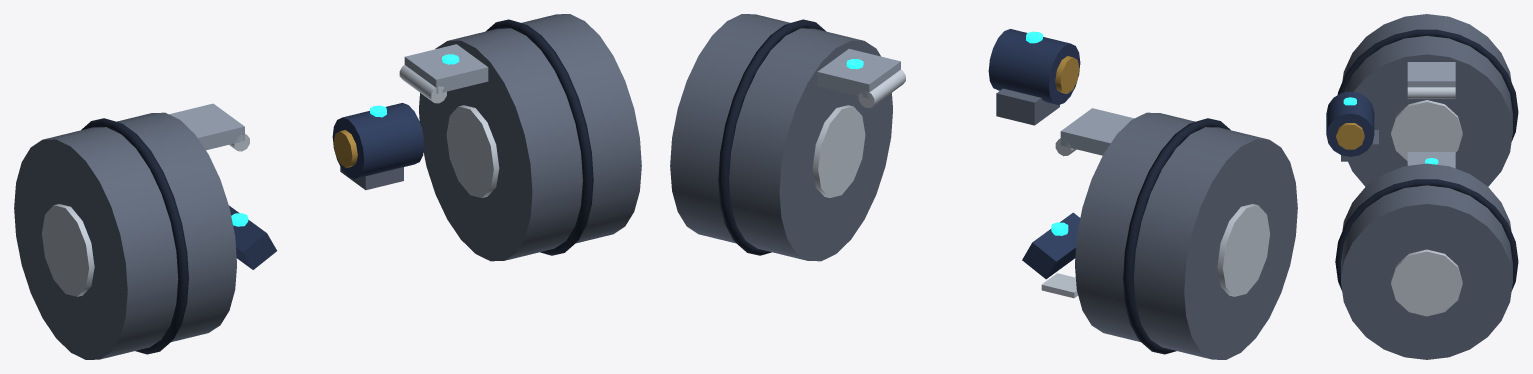
Rendered from tower_skywatch_rate_s5.glb.
The picture shows the model from 3 angles, left to right: view 1: azimuth 30°, elevation 25°; view 2: azimuth 150°, elevation 25°; view 3: azimuth 270°, elevation 25°; orthographic projection. The views are drawn at different scales.
Visible parts, largest first — view 1: skywatch_big_drum_r, skywatch_big_drum_l, skywatch_feed_motor, skywatch_big_drum_cap_r, skywatch_big_drum_cap_l, skywatch_big_drum_rib_r, skywatch_big_drum_rib_l, skywatch_belt_guide_l, skywatch_belt_guide_r, skywatch_eject_chute, skywatch_belt_guide_roller_l, skywatch_feed_motor_cap (+1 smaller); view 2: skywatch_big_drum_r, skywatch_big_drum_l, skywatch_feed_motor, skywatch_big_drum_cap_r, skywatch_big_drum_cap_l, skywatch_big_drum_rib_r, skywatch_big_drum_rib_l, skywatch_belt_guide_l, skywatch_belt_guide_r, skywatch_eject_chute, skywatch_feed_motor_mount, skywatch_belt_guide_roller_l (+2 smaller); view 3: skywatch_big_drum_l, skywatch_big_drum_r, skywatch_big_drum_cap_l, skywatch_big_drum_cap_r, skywatch_feed_motor, skywatch_big_drum_rib_l, skywatch_big_drum_rib_r, skywatch_belt_guide_r, skywatch_feed_motor_cap, skywatch_belt_guide_l, skywatch_belt_guide_roller_r, skywatch_feed_motor_mount.
Boxes of the visible parts, x1,y1,x2,y2 form: skywatch_big_drum_r: [14, 112, 236, 359]; skywatch_big_drum_l: [419, 14, 641, 261]; skywatch_feed_motor: [332, 103, 424, 178]; skywatch_big_drum_cap_r: [42, 204, 94, 296]; skywatch_big_drum_cap_l: [446, 105, 499, 197]; skywatch_big_drum_rib_r: [81, 118, 188, 354]; skywatch_big_drum_rib_l: [485, 19, 593, 255]; skywatch_belt_guide_l: [404, 44, 488, 93]; skywatch_belt_guide_r: [169, 103, 244, 150]; skywatch_eject_chute: [229, 205, 276, 269]; skywatch_belt_guide_roller_l: [399, 65, 446, 103]; skywatch_feed_motor_cap: [333, 130, 357, 167]; skywatch_big_drum_r: [1075, 112, 1297, 359]; skywatch_big_drum_l: [670, 14, 892, 261]; skywatch_feed_motor: [988, 29, 1080, 104]; skywatch_big_drum_cap_r: [1217, 204, 1269, 296]; skywatch_big_drum_cap_l: [812, 105, 865, 197]; skywatch_big_drum_rib_r: [1123, 118, 1230, 354]; skywatch_big_drum_rib_l: [718, 19, 826, 255]; skywatch_belt_guide_l: [817, 49, 900, 98]; skywatch_belt_guide_r: [1060, 108, 1134, 155]; skywatch_eject_chute: [1022, 212, 1080, 279]; skywatch_feed_motor_mount: [996, 88, 1059, 125]; skywatch_belt_guide_roller_l: [858, 69, 905, 107]; skywatch_big_drum_l: [1341, 163, 1512, 359]; skywatch_big_drum_r: [1342, 14, 1512, 186]; skywatch_big_drum_cap_l: [1391, 249, 1462, 316]; skywatch_big_drum_cap_r: [1391, 100, 1462, 160]; skywatch_feed_motor: [1326, 91, 1374, 156]; skywatch_big_drum_rib_l: [1335, 179, 1518, 291]; skywatch_big_drum_rib_r: [1337, 29, 1518, 141]; skywatch_belt_guide_r: [1407, 62, 1455, 87]; skywatch_feed_motor_cap: [1336, 123, 1364, 149]; skywatch_belt_guide_l: [1407, 152, 1455, 168]; skywatch_belt_guide_roller_r: [1407, 87, 1455, 98]; skywatch_feed_motor_mount: [1341, 130, 1378, 161].
Bounding box in the file's own units: 1.92 × 0.7812 × 0.803.
